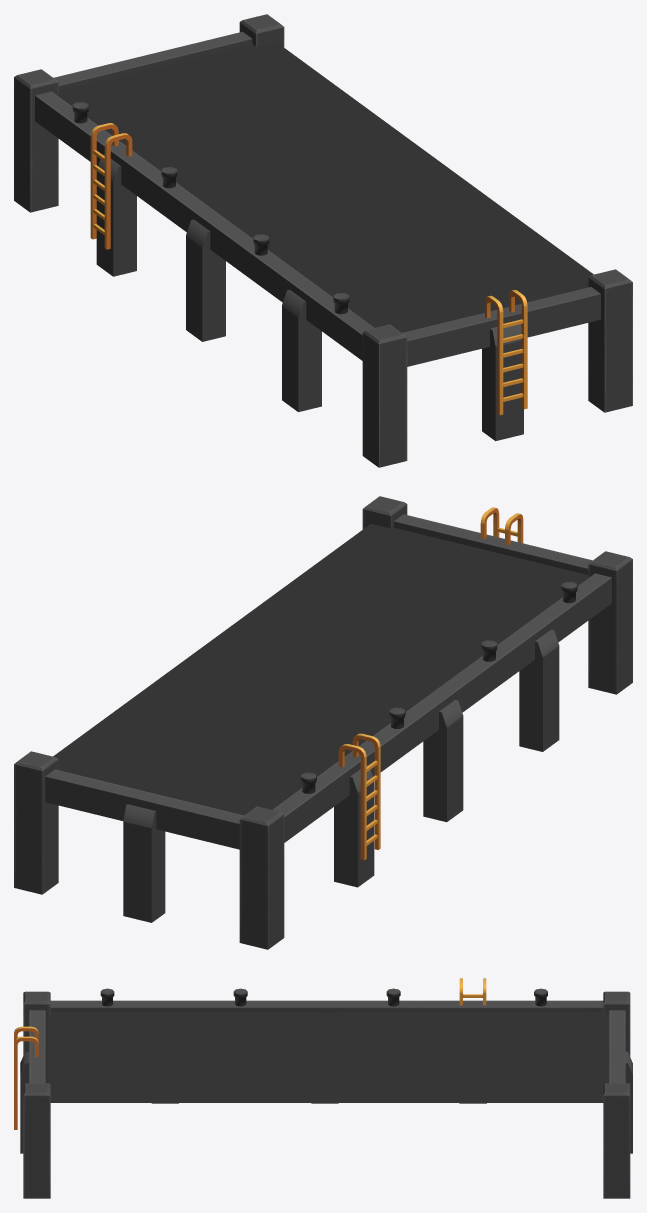
File: pirs.fbx
3 views of the same model, one above another, from view 1: azimuth 30°, elevation 25°; view 2: azimuth 150°, elevation 25°; view 3: azimuth 270°, elevation 25° (orthographic). The views are drawn at different scales.
Visible parts, largest first — view 1: Object064; view 2: Object064; view 3: Object064.
Part boxes in pixels (bbox=[...]): Object064: bbox=[14, 14, 632, 467]; Object064: bbox=[14, 496, 632, 949]; Object064: bbox=[14, 978, 632, 1198].
Bounding box in the file's own units: 263 × 132 × 641.
